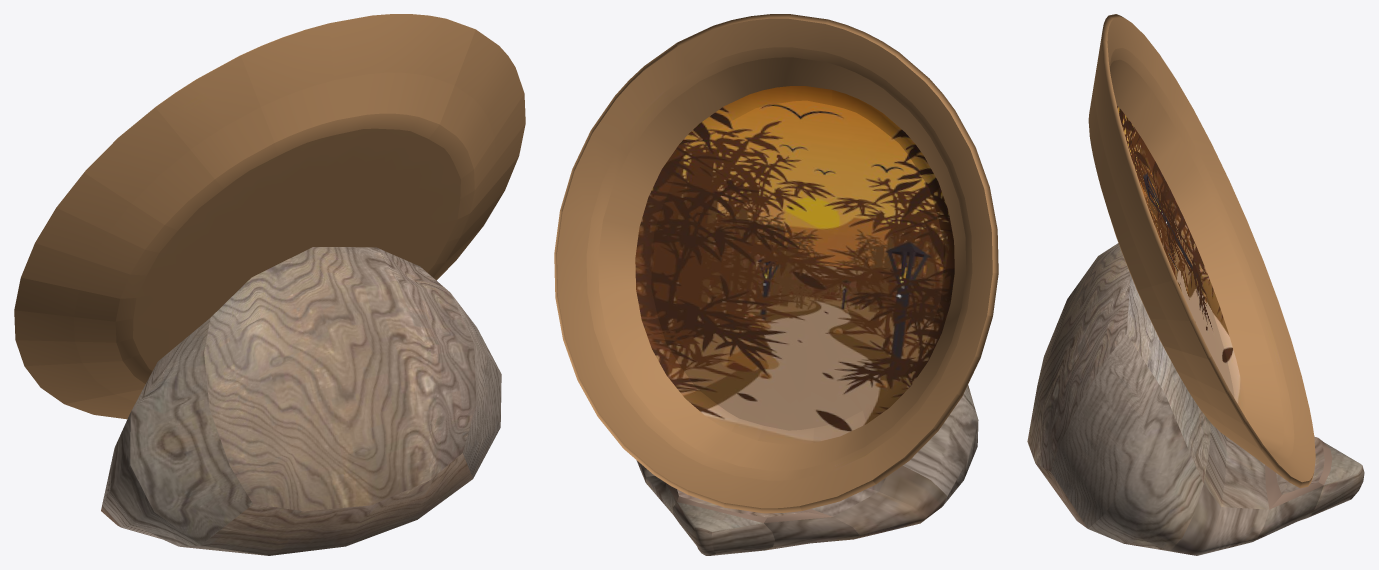
File: NNJ0410010.fbx
The picture shows the model from 3 angles, left to right: view 1: azimuth 30°, elevation 25°; view 2: azimuth 150°, elevation 25°; view 3: azimuth 270°, elevation 25°; orthographic projection. The views are drawn at different scales.
Visible parts, largest first — view 1: smNNJ0410010; view 2: smNNJ0410010; view 3: smNNJ0410010.
Part boxes in pixels (x1,y1,x2,y2): smNNJ0410010: [14, 14, 525, 555]; smNNJ0410010: [554, 14, 998, 555]; smNNJ0410010: [1027, 14, 1364, 555].
Bounding box in the file's own units: 66.28 × 66.49 × 43.6.
Materials: 1 (1 with a texture image).
